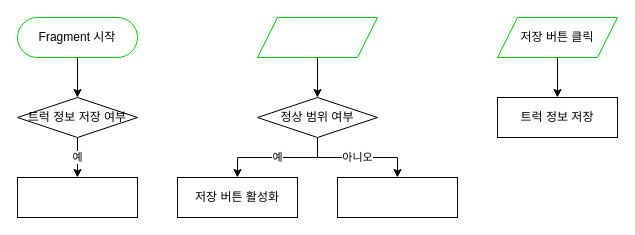
Image size: 635x235. Some labels were removed from this diagram. The box of each missing label's shape, as (x1, y1, x2, y2) in pixels:
각 입력 칸에 작성: (16, 176, 138, 218)
저장 버튼 비활성화: (336, 176, 458, 218)
트럭 정보 입력: (256, 16, 378, 58)
